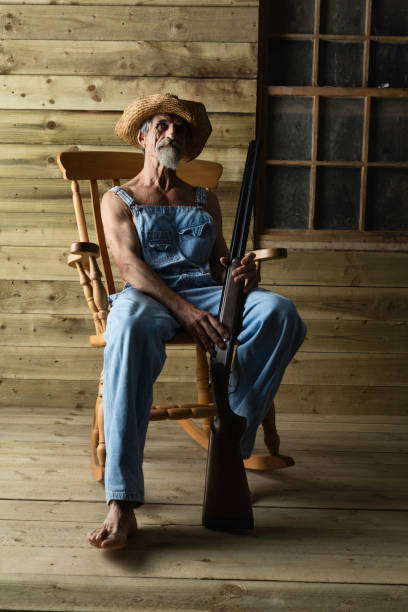shotgun: (191, 139, 271, 543)
